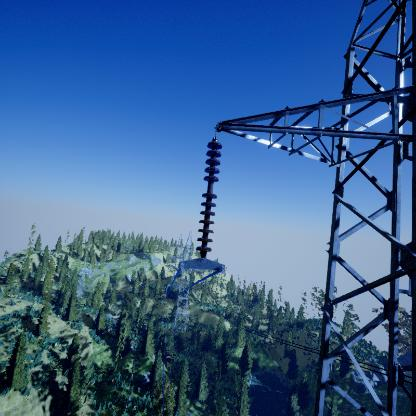insulator: (194, 138, 224, 256)
